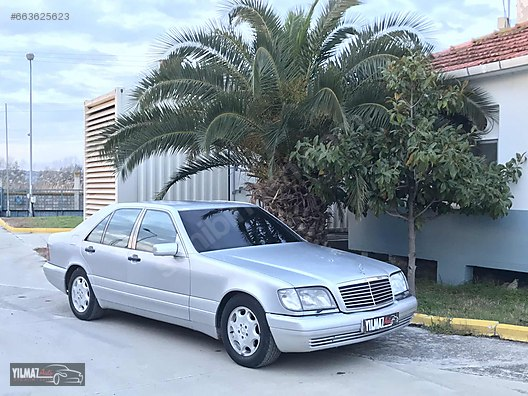m: (42, 199, 424, 370)
